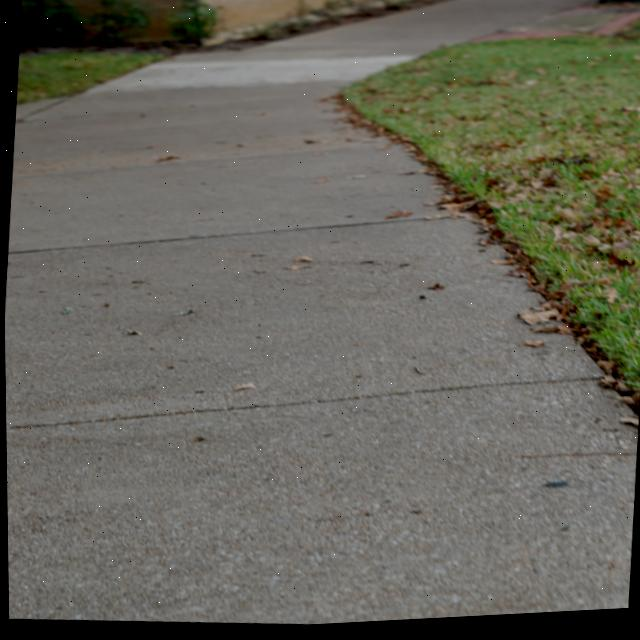Sidewalk: (4, 0, 636, 627)
